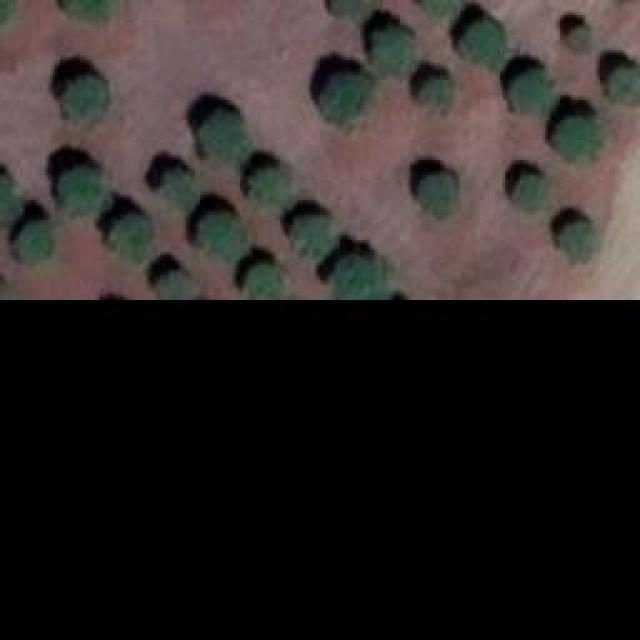Tree: (325, 245, 388, 298), (52, 163, 100, 216), (320, 65, 368, 118), (365, 25, 418, 73), (555, 115, 603, 158), (288, 208, 331, 253), (203, 210, 243, 258), (105, 213, 150, 253), (455, 20, 500, 58), (245, 168, 293, 203), (200, 113, 238, 156), (510, 65, 548, 108), (243, 265, 288, 300), (62, 75, 100, 115), (415, 175, 455, 213), (515, 175, 553, 213), (555, 220, 593, 258), (153, 268, 196, 298), (607, 62, 640, 99), (158, 168, 193, 201), (15, 223, 48, 256), (563, 20, 596, 53), (327, 0, 380, 19), (60, 0, 110, 20), (415, 78, 448, 108), (417, 0, 462, 20), (0, 170, 15, 213)
